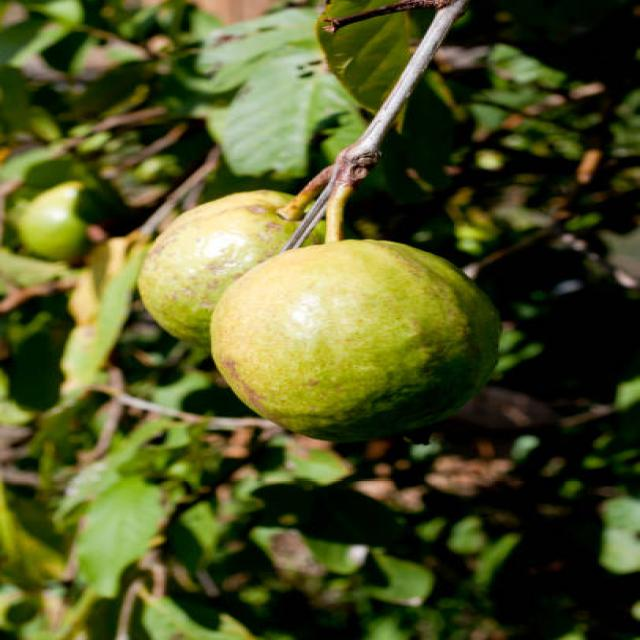Unripe: (209, 230, 497, 442)
